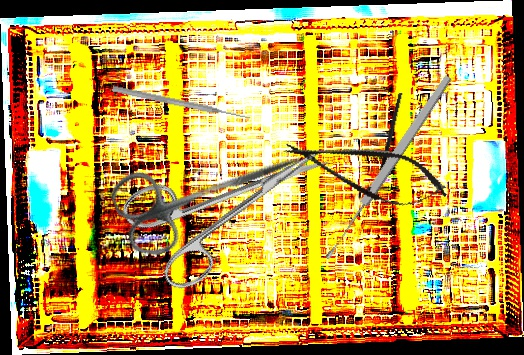Hook Surgical: (372, 92, 408, 206)
Iris Scissors: (117, 110, 352, 299), (105, 114, 316, 264)
Micro Scissor: (277, 122, 454, 220)
Pusher: (111, 84, 252, 123)
Surgical Spoon: (320, 73, 455, 262)
